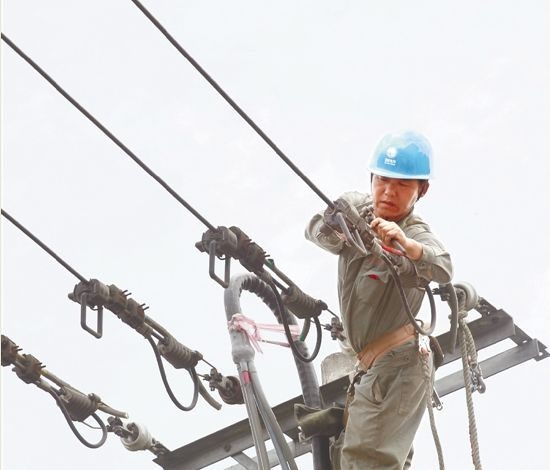blue: (362, 127, 433, 220)
